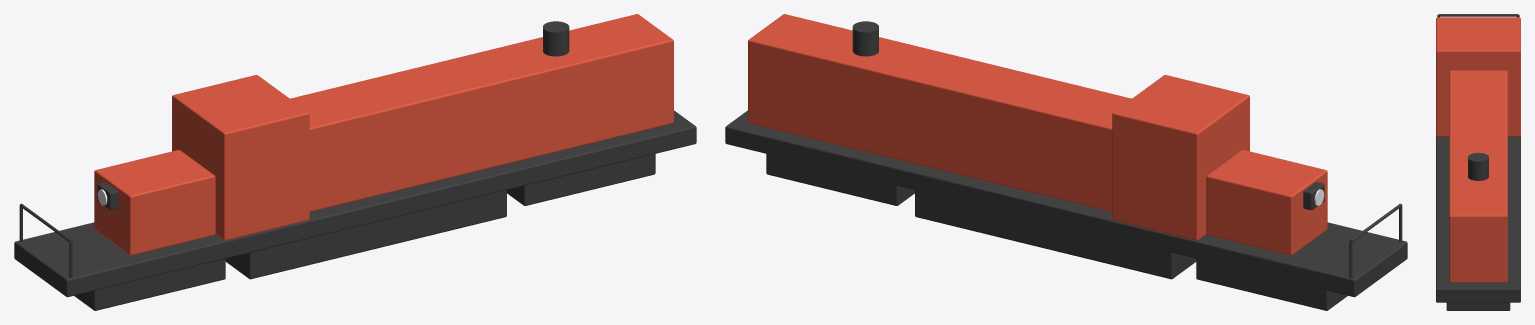
Rendered from Diesel Locomotive.fbx.
3 renders of one model, left to right at view 1: azimuth 30°, elevation 25°; view 2: azimuth 150°, elevation 25°; view 3: azimuth 270°, elevation 25°, orthographic. The views are drawn at different scales.
Parts seen in each view (by area): view 1: Body_LongHood, Chassis, Body_Cabin, Body_ShortHood, Fuel_Tank, Bogie_Front, Bogie_Rear, Exhaust_Stack; view 2: Body_LongHood, Chassis, Body_Cabin, Body_ShortHood, Fuel_Tank, Bogie_Front, Bogie_Rear, Exhaust_Stack; view 3: Body_LongHood, Body_Cabin, Chassis, Bogie_Rear, Exhaust_Stack, Rail_Front_Top.
Boxes of the visible parts, x1,y1,x2,y2 form: Body_LongHood: [290, 14, 673, 211]; Chassis: [14, 110, 696, 297]; Body_Cabin: [172, 75, 309, 240]; Body_ShortHood: [94, 150, 215, 255]; Fuel_Tank: [225, 190, 506, 279]; Bogie_Front: [74, 259, 225, 310]; Bogie_Rear: [507, 154, 655, 205]; Exhaust_Stack: [543, 21, 569, 56]; Body_LongHood: [748, 14, 1131, 211]; Chassis: [725, 110, 1407, 297]; Body_Cabin: [1112, 75, 1249, 240]; Body_ShortHood: [1206, 150, 1327, 255]; Fuel_Tank: [915, 190, 1196, 279]; Bogie_Front: [1196, 259, 1347, 310]; Bogie_Rear: [766, 154, 914, 205]; Exhaust_Stack: [852, 21, 878, 56]; Body_LongHood: [1449, 70, 1507, 282]; Body_Cabin: [1436, 17, 1520, 136]; Chassis: [1436, 136, 1520, 302]; Bogie_Rear: [1446, 302, 1510, 310]; Exhaust_Stack: [1468, 152, 1488, 180]; Rail_Front_Top: [1438, 14, 1518, 16].
Bounding box in the file's own units: 2200 × 520 × 320.
